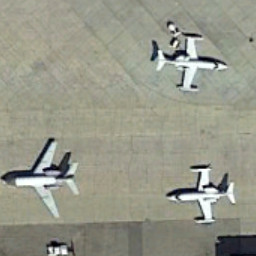Airplane: (1, 130, 89, 223), (145, 24, 236, 99), (152, 161, 244, 234)
